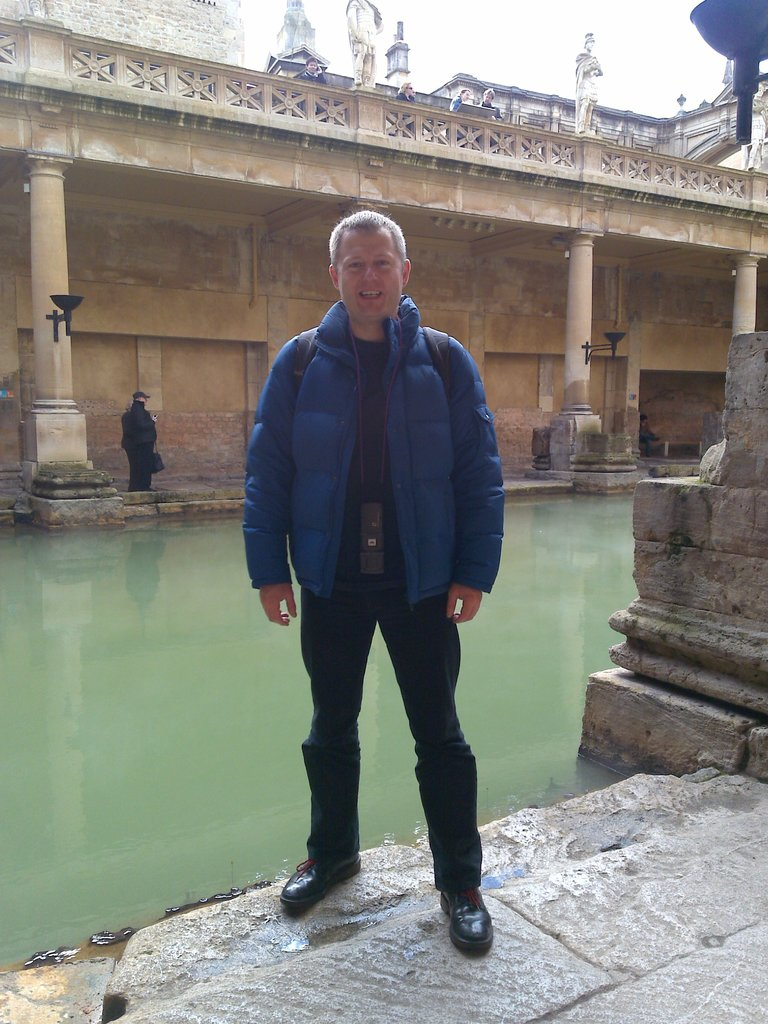Footwear: (280, 842, 371, 920), (435, 883, 489, 958)
